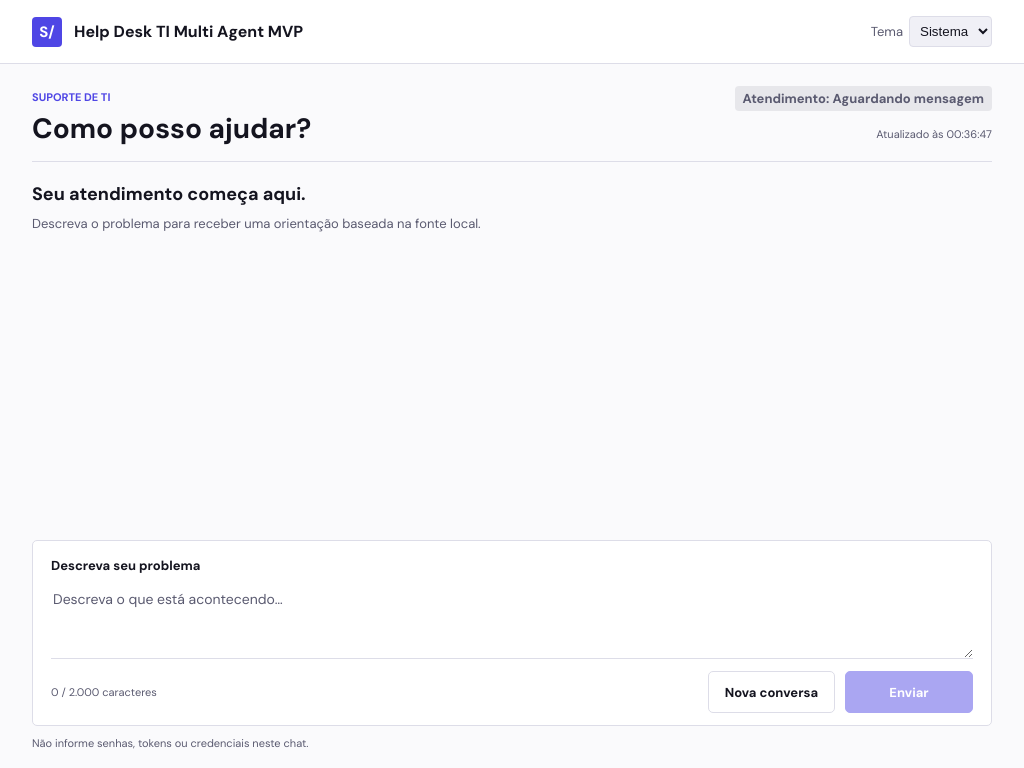
Test: restarts in a new session and restores the old conversation from the server
(page scrolled)
In the text box labelled "Descreva seu problema": [512, 622] box [51,586,973,658], type "Preciso de ajuda para acessar minha conta."
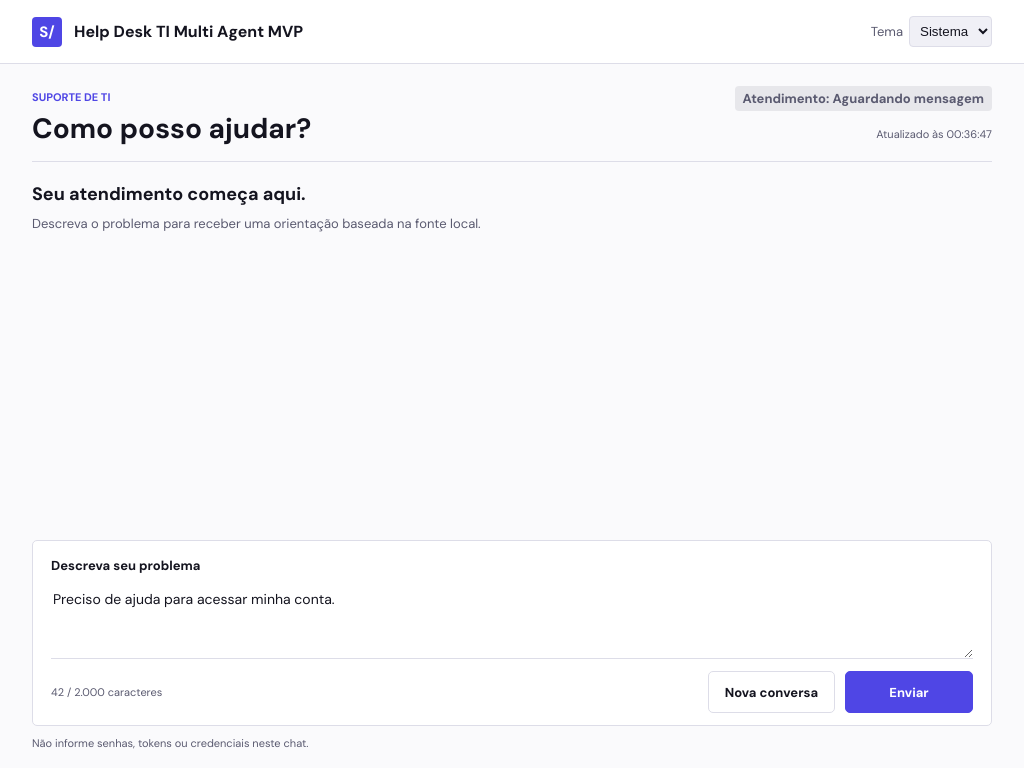
Click the button "Enviar": [909, 692] box [845,671,973,713]
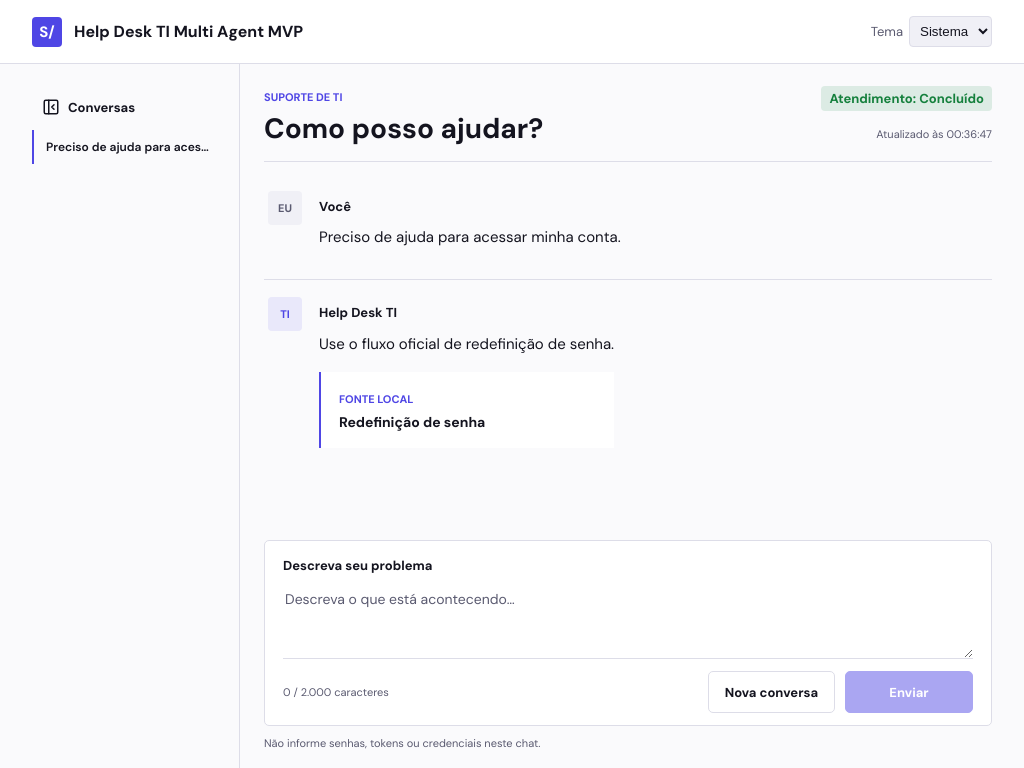
Now the text "Atendimento: Concluído" is shown, box [821,86,992,111]
Click the button "Nova conversa": [771, 692] box [708,671,835,713]
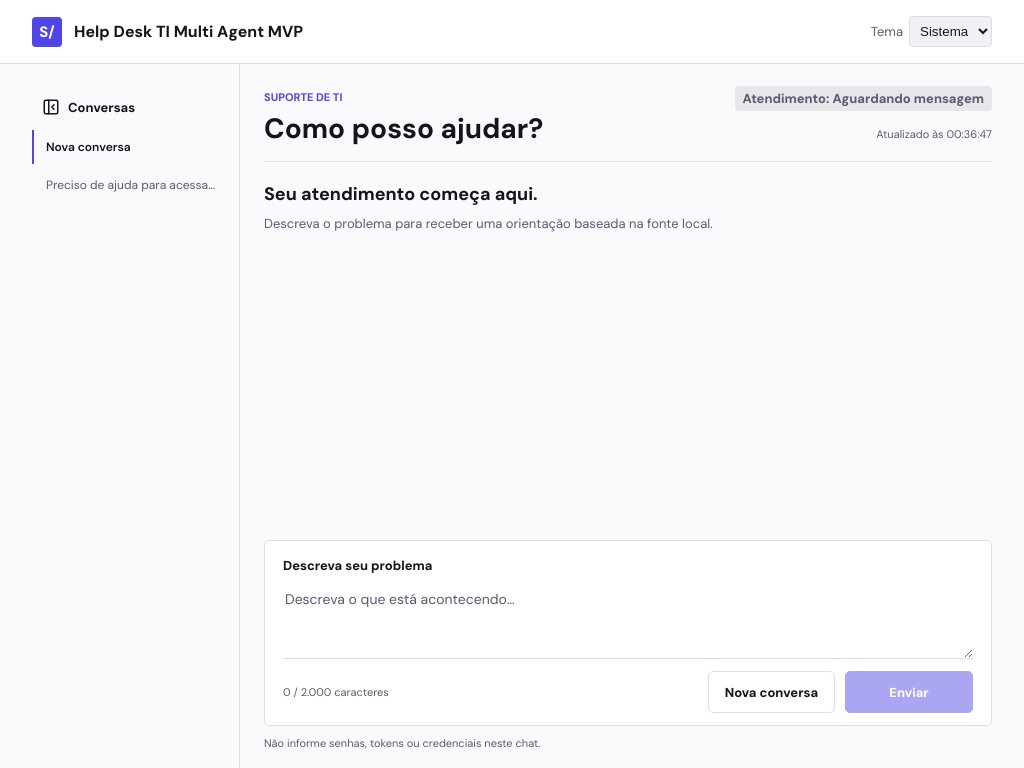
Now the text box labelled "Descreva seu problema" is empty, box [283,586,973,658]
Now the button "Enviar" is disabled, box [845,671,973,713]
Now the 1st button "Nova conversa" is shown, box [32,130,227,164]
Click the button "Preciso de ajuda para acessar minha conta.": [130, 185] box [32,168,227,202]
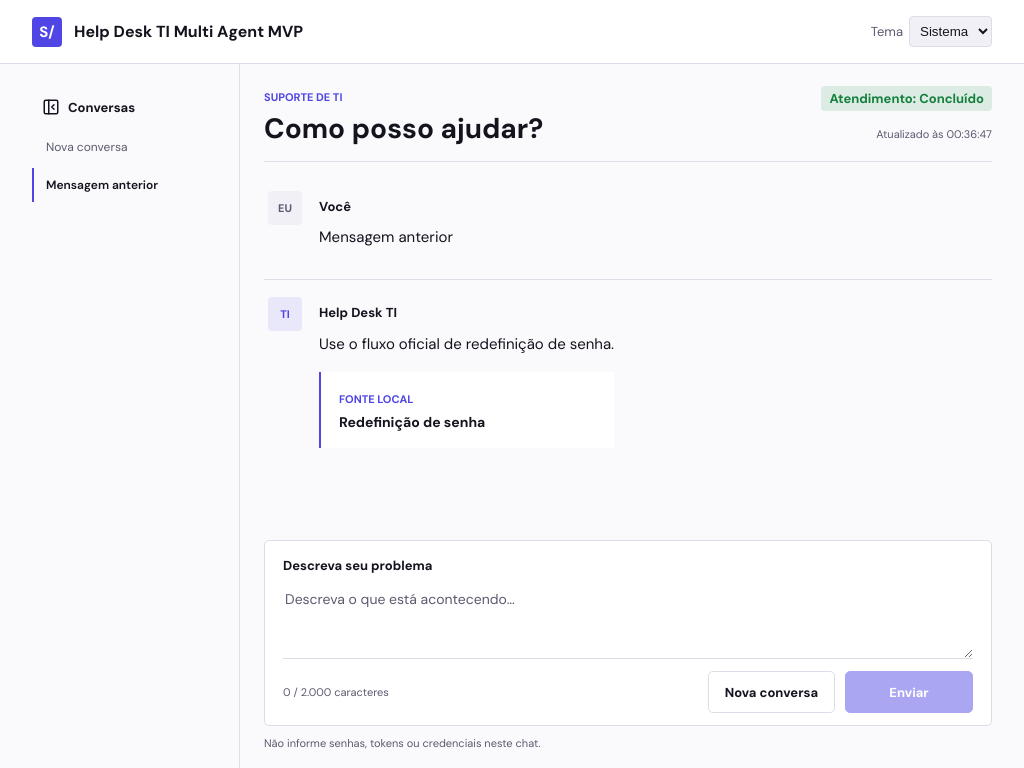
Now the text "Mensagem anterior" is shown, box [319,225,453,250]
